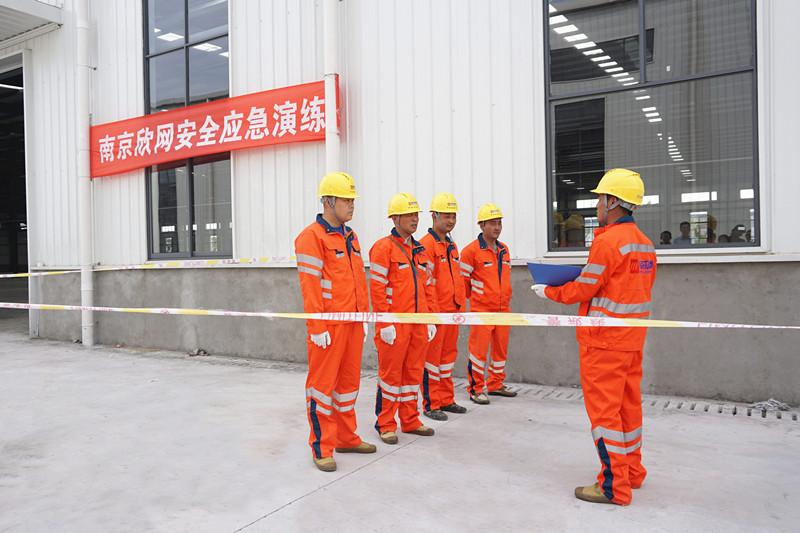helmet: (593, 169, 645, 203), (319, 169, 360, 203), (389, 193, 424, 221), (473, 204, 508, 226), (430, 193, 459, 218)
